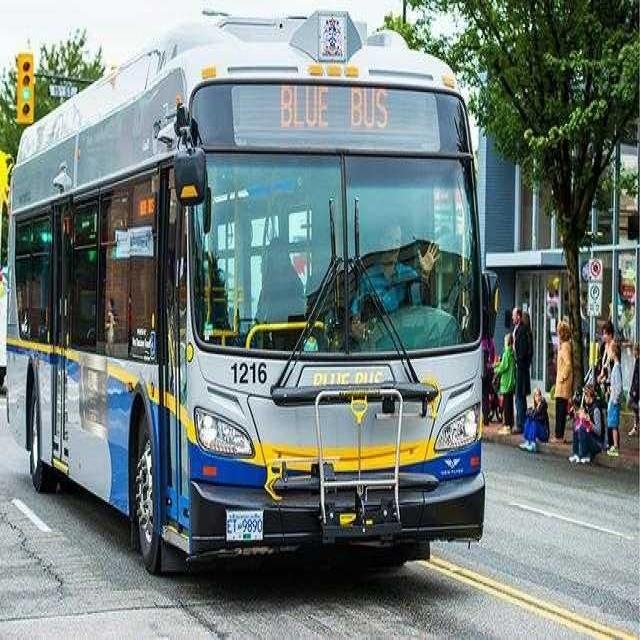Bus: (5, 3, 499, 592)
